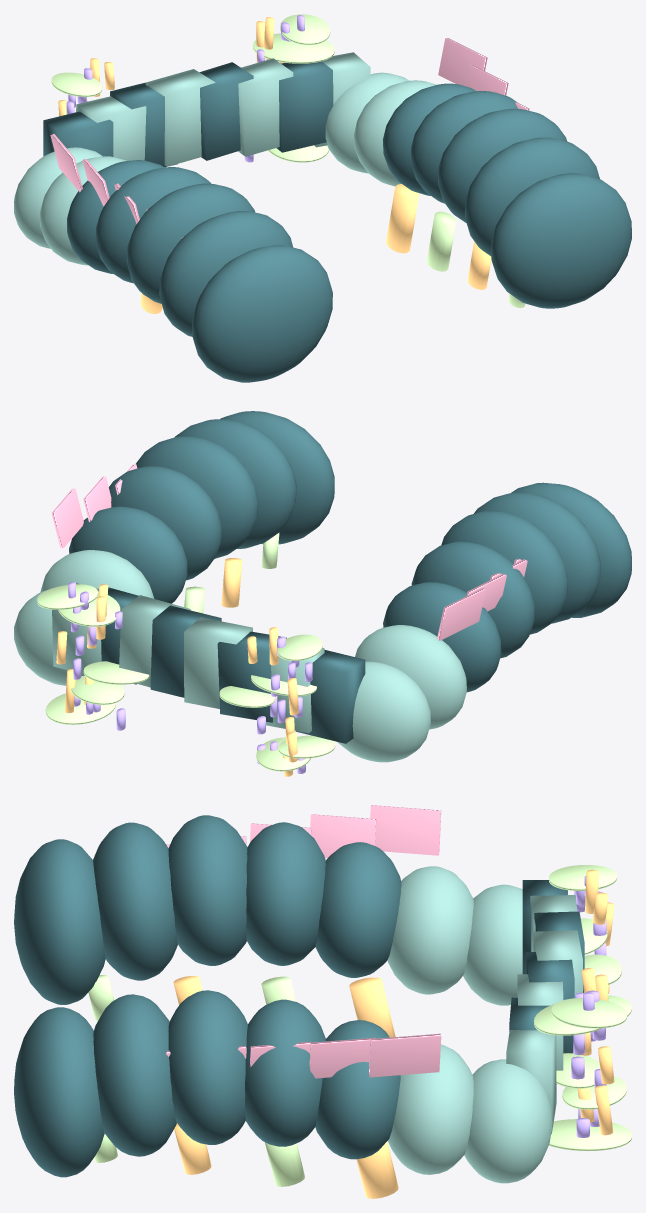
File: reef-arch-coral-01.glb
3 renders of one model, top to bottom at view 1: azimuth 30°, elevation 25°; view 2: azimuth 150°, elevation 25°; view 3: azimuth 270°, elevation 25°, orthographic. The views are drawn at different scales.
Visible parts, largest first — view 1: reef_arch_coral_01_pillar_-1_00, reef_arch_coral_01_pillar_1_00, reef_arch_coral_01_pillar_-1_01, reef_arch_coral_01_pillar_1_01, reef_arch_coral_01_pillar_-1_02, reef_arch_coral_01_pillar_1_02, reef_arch_coral_01_pillar_-1_03, reef_arch_coral_01_bridge_06, reef_arch_coral_01_pillar_1_03, reef_arch_coral_01_bridge_05, reef_arch_coral_01_bridge_03, reef_arch_coral_01_bridge_04 (+21 smaller); view 2: reef_arch_coral_01_pillar_-1_06, reef_arch_coral_01_pillar_1_03, reef_arch_coral_01_pillar_1_02, reef_arch_coral_01_pillar_1_04, reef_arch_coral_01_pillar_-1_02, reef_arch_coral_01_pillar_-1_03, reef_arch_coral_01_pillar_-1_05, reef_arch_coral_01_pillar_1_01, reef_arch_coral_01_pillar_-1_04, reef_arch_coral_01_pillar_-1_01, reef_arch_coral_01_pillar_1_00, reef_arch_coral_01_pillar_-1_00 (+25 smaller); view 3: reef_arch_coral_01_pillar_1_00, reef_arch_coral_01_pillar_-1_00, reef_arch_coral_01_pillar_1_01, reef_arch_coral_01_pillar_-1_01, reef_arch_coral_01_pillar_1_02, reef_arch_coral_01_pillar_-1_02, reef_arch_coral_01_pillar_-1_03, reef_arch_coral_01_pillar_1_03, reef_arch_coral_01_pillar_-1_04, reef_arch_coral_01_pillar_-1_05, reef_arch_coral_01_pillar_1_06, reef_arch_coral_01_pillar_1_05 (+29 smaller).
Part boxes in pixels (x1=…): reef_arch_coral_01_pillar_-1_00: x1=192, y1=245, x2=332, y2=382; reef_arch_coral_01_pillar_1_00: x1=491, y1=173, x2=631, y2=308; reef_arch_coral_01_pillar_-1_01: x1=159, y1=211, x2=293, y2=336; reef_arch_coral_01_pillar_1_01: x1=465, y1=137, x2=599, y2=256; reef_arch_coral_01_pillar_-1_02: x1=126, y1=183, x2=255, y2=303; reef_arch_coral_01_pillar_1_02: x1=438, y1=108, x2=567, y2=222; reef_arch_coral_01_pillar_-1_03: x1=96, y1=167, x2=210, y2=283; reef_arch_coral_01_bridge_06: x1=276, y1=61, x2=333, y2=152; reef_arch_coral_01_pillar_1_03: x1=411, y1=91, x2=517, y2=203; reef_arch_coral_01_bridge_05: x1=238, y1=58, x2=293, y2=156; reef_arch_coral_01_bridge_03: x1=145, y1=69, x2=215, y2=166; reef_arch_coral_01_bridge_04: x1=199, y1=62, x2=253, y2=160; reef_arch_coral_01_pillar_-1_06: x1=337, y1=661, x2=430, y2=762; reef_arch_coral_01_pillar_1_03: x1=109, y1=466, x2=221, y2=580; reef_arch_coral_01_pillar_1_02: x1=136, y1=436, x2=258, y2=558; reef_arch_coral_01_pillar_1_04: x1=69, y1=506, x2=187, y2=603; reef_arch_coral_01_pillar_-1_02: x1=441, y1=511, x2=567, y2=634; reef_arch_coral_01_pillar_-1_03: x1=411, y1=541, x2=534, y2=658; reef_arch_coral_01_pillar_-1_05: x1=355, y1=625, x2=466, y2=729; reef_arch_coral_01_pillar_1_01: x1=175, y1=419, x2=296, y2=548; reef_arch_coral_01_pillar_-1_04: x1=383, y1=582, x2=501, y2=692; reef_arch_coral_01_pillar_-1_01: x1=474, y1=492, x2=600, y2=623; reef_arch_coral_01_pillar_1_00: x1=220, y1=411, x2=334, y2=544; reef_arch_coral_01_pillar_-1_00: x1=511, y1=482, x2=631, y2=617; reef_arch_coral_01_pillar_1_00: x1=14, y1=1007, x2=104, y2=1177; reef_arch_coral_01_pillar_-1_00: x1=14, y1=839, x2=105, y2=1004; reef_arch_coral_01_pillar_1_01: x1=93, y1=994, x2=176, y2=1156; reef_arch_coral_01_pillar_-1_01: x1=93, y1=822, x2=177, y2=980; reef_arch_coral_01_pillar_1_02: x1=168, y1=990, x2=247, y2=1144; reef_arch_coral_01_pillar_-1_02: x1=168, y1=815, x2=247, y2=965; reef_arch_coral_01_pillar_-1_03: x1=246, y1=822, x2=325, y2=965; reef_arch_coral_01_pillar_1_03: x1=245, y1=999, x2=325, y2=1146; reef_arch_coral_01_pillar_-1_04: x1=315, y1=842, x2=401, y2=977; reef_arch_coral_01_pillar_-1_05: x1=387, y1=866, x2=473, y2=994; reef_arch_coral_01_pillar_1_06: x1=464, y1=1059, x2=552, y2=1183; reef_arch_coral_01_pillar_1_05: x1=388, y1=1044, x2=473, y2=1174.
Size of the model in its own units: 4.14 by 1.66 by 4.36.
